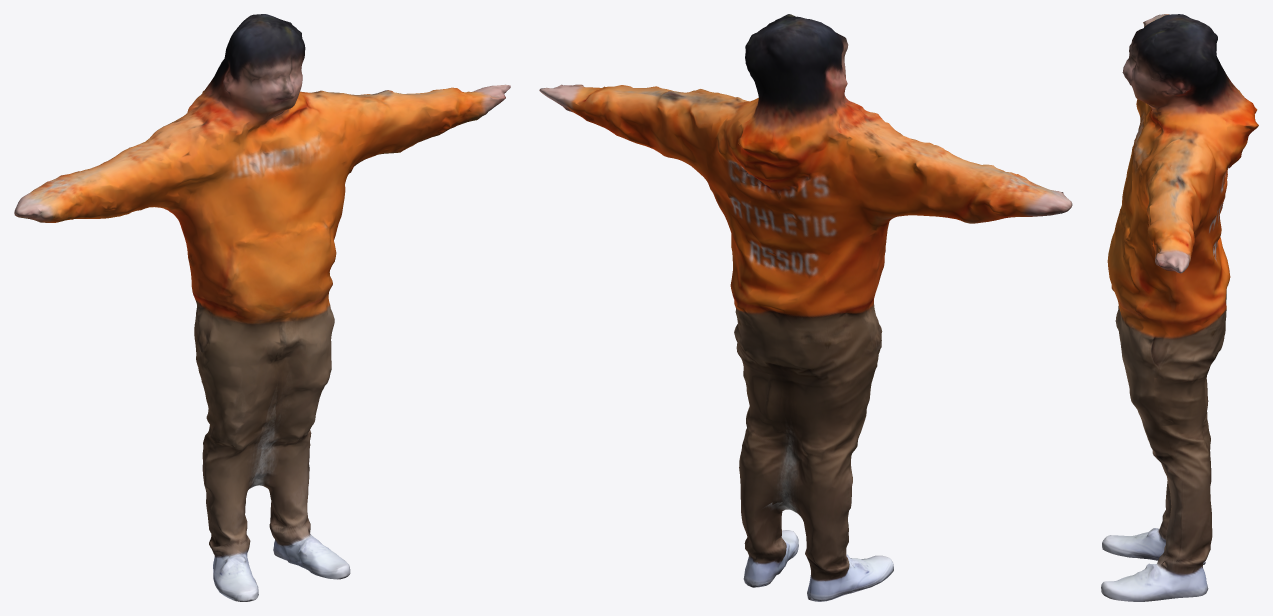
Rendered from tpose.glb.
3 views of the same model, side by side, from view 1: azimuth 30°, elevation 25°; view 2: azimuth 150°, elevation 25°; view 3: azimuth 270°, elevation 25° (orthographic). The views are drawn at different scales.
Visible parts, largest first — view 1: t-pose2; view 2: t-pose2; view 3: t-pose2.
Part boxes in pixels (x1,y1,x2,y2): t-pose2: (14, 14, 510, 601); t-pose2: (539, 14, 1072, 601); t-pose2: (1101, 14, 1258, 601).
Bounding box in the file's own units: 16.55 × 17.05 × 4.38.
1 material, 1 textured.
